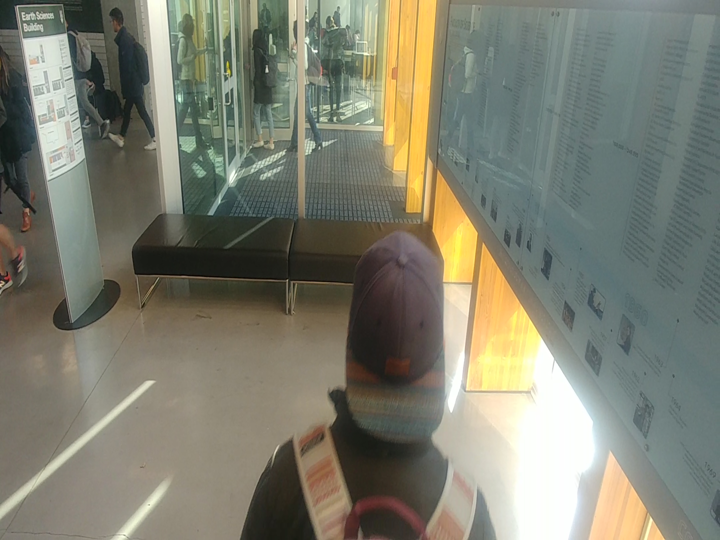face: (339, 223, 466, 458), (103, 5, 131, 37), (250, 24, 272, 52), (321, 12, 338, 37)
human: (235, 225, 507, 540), (104, 2, 161, 159), (169, 10, 215, 154), (246, 25, 281, 155), (317, 14, 354, 124)
